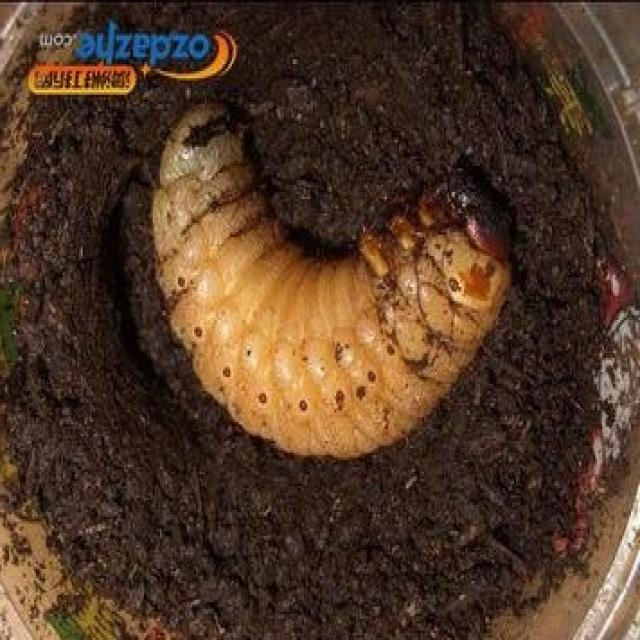grub: (138, 96, 526, 475)
